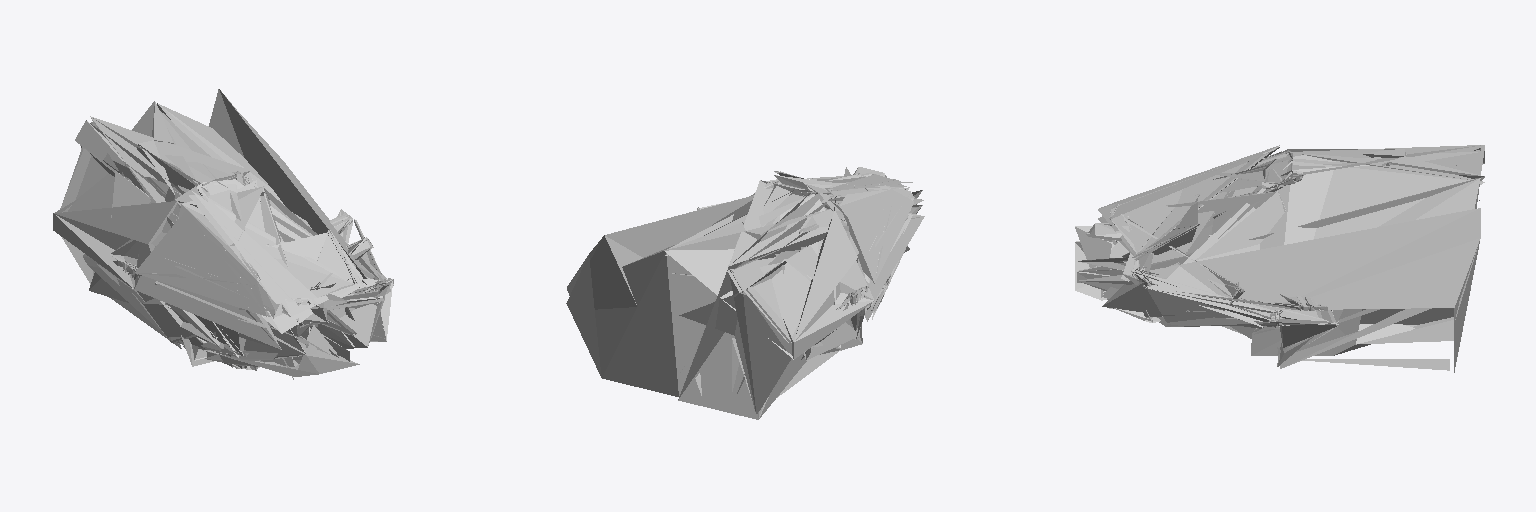
File: SF_Spaceship Cockpit.obj
The picture shows the model from 3 angles: view 1: azimuth 30°, elevation 25°; view 2: azimuth 150°, elevation 25°; view 3: azimuth 270°, elevation 25°; orthographic projection.
Parts seen in each view (by area): view 1: SF_Spaceship_Cockpit; view 2: SF_Spaceship_Cockpit; view 3: SF_Spaceship_Cockpit.
Part boxes in pixels (left/top/right/bottom): SF_Spaceship_Cockpit: left=53, top=89, right=393, bottom=379; SF_Spaceship_Cockpit: left=566, top=167, right=924, bottom=419; SF_Spaceship_Cockpit: left=1075, top=145, right=1484, bottom=372.
Size of the model in its own units: 49.44 by 33.14 by 76.94.